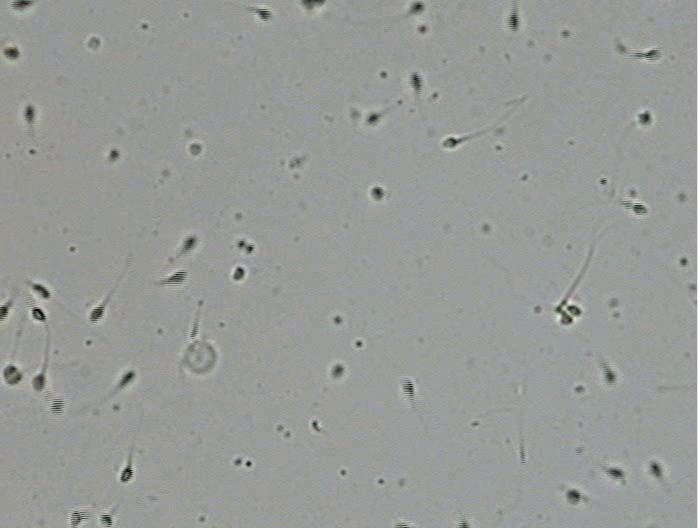Impurity: (185, 340, 217, 373), (87, 36, 100, 49)
S: (3, 365, 23, 385), (636, 48, 662, 61), (165, 271, 186, 285), (70, 510, 87, 527), (32, 283, 50, 299), (401, 379, 414, 400), (89, 305, 104, 323), (605, 467, 624, 480), (255, 8, 272, 22), (50, 397, 64, 414), (410, 71, 422, 90), (301, 1, 326, 10), (120, 466, 134, 482), (648, 461, 662, 477), (3, 48, 20, 61), (24, 105, 36, 123), (32, 307, 47, 321), (99, 513, 113, 528), (566, 489, 581, 503), (508, 12, 519, 31), (183, 235, 196, 251), (32, 374, 45, 390), (10, 1, 32, 10), (603, 369, 616, 384), (233, 265, 245, 281), (121, 371, 133, 387), (639, 111, 652, 125), (408, 3, 424, 14), (632, 203, 648, 214), (371, 187, 384, 200), (443, 137, 458, 148), (331, 364, 344, 376), (560, 313, 573, 325), (567, 305, 581, 316), (1, 304, 9, 321), (190, 143, 201, 155), (367, 113, 379, 123), (108, 150, 119, 160), (457, 520, 468, 528), (394, 523, 410, 528)
